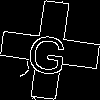G: (25, 25, 70, 76)
